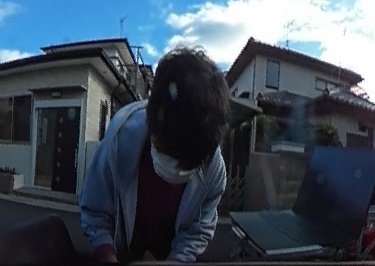person: (79, 44, 228, 260)
